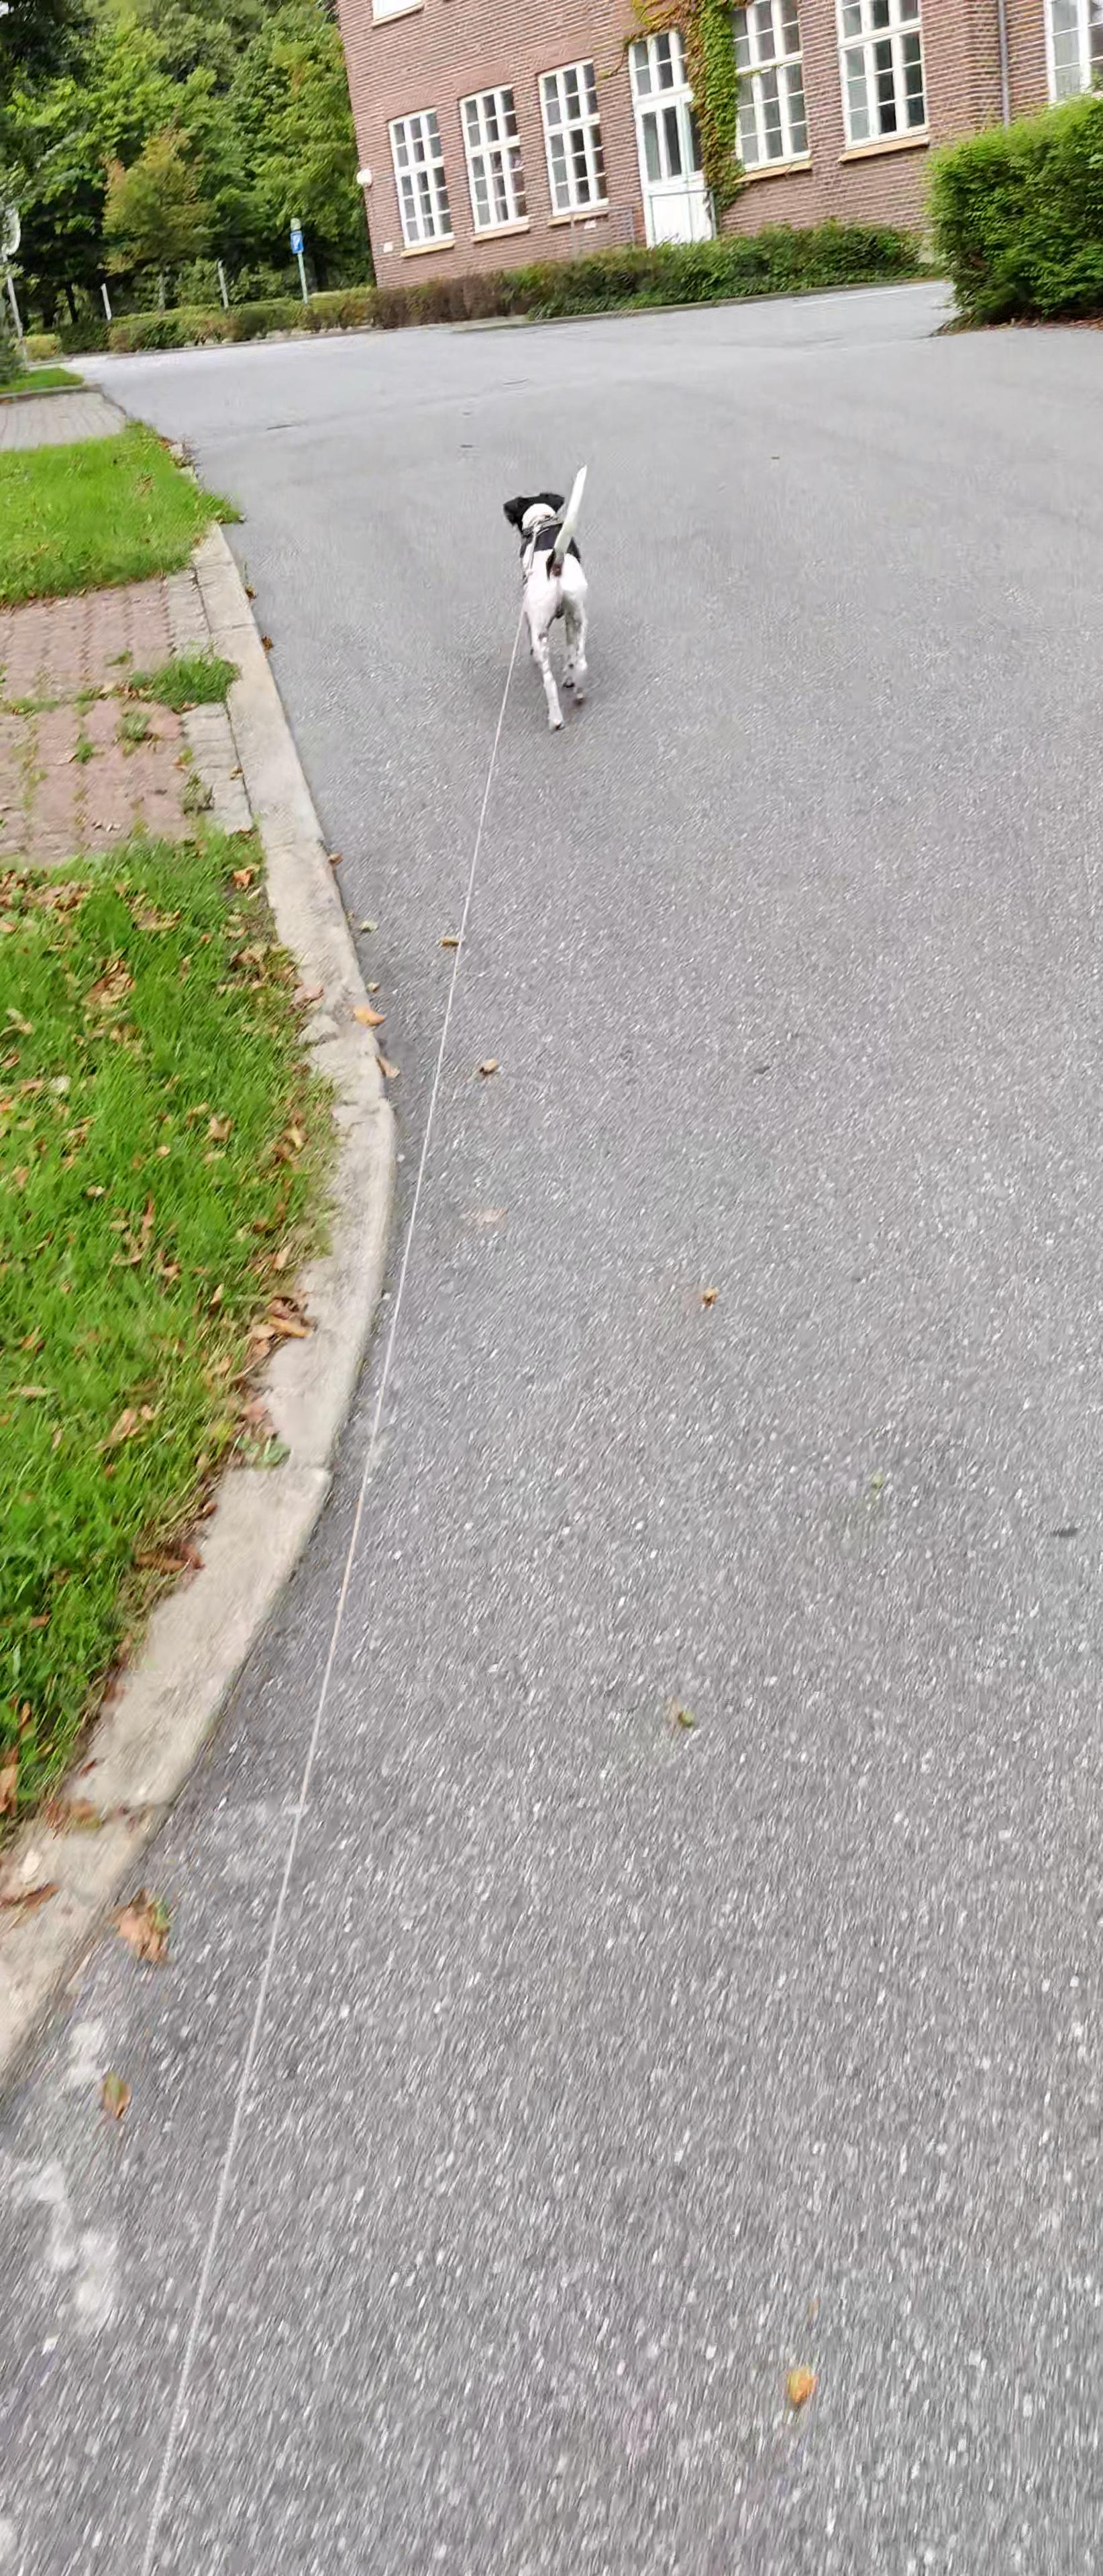Dog: (482, 453, 615, 749)
